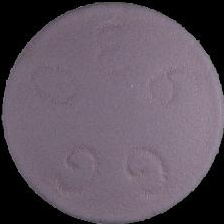0904-6129: (0, 0, 224, 224)
